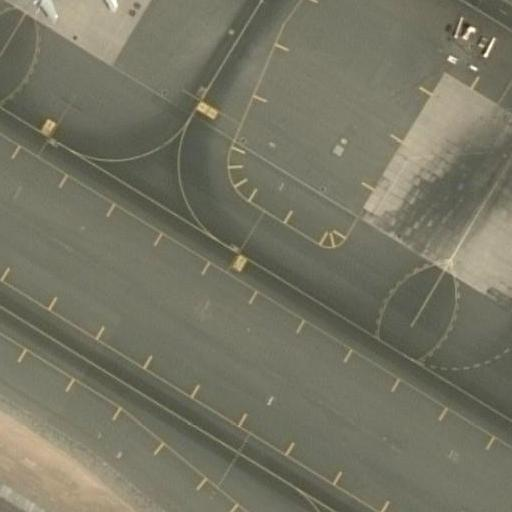Aircraft: (0, 0, 127, 17)
